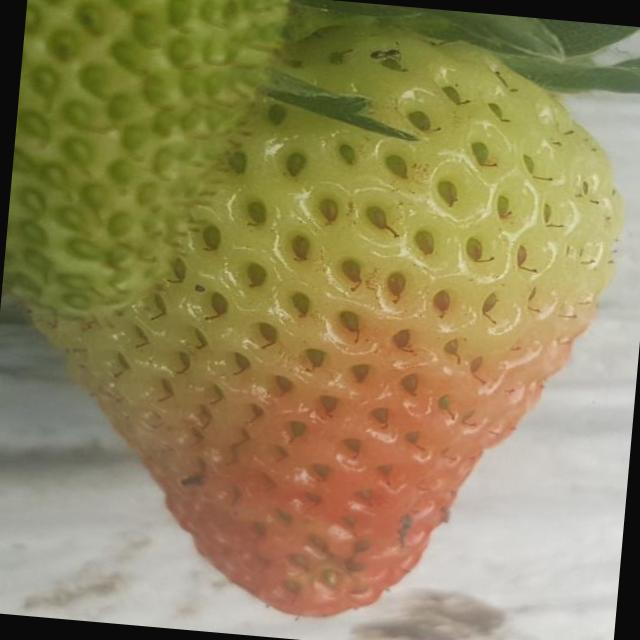Strawberry: (0, 0, 640, 640), (0, 0, 277, 340)
